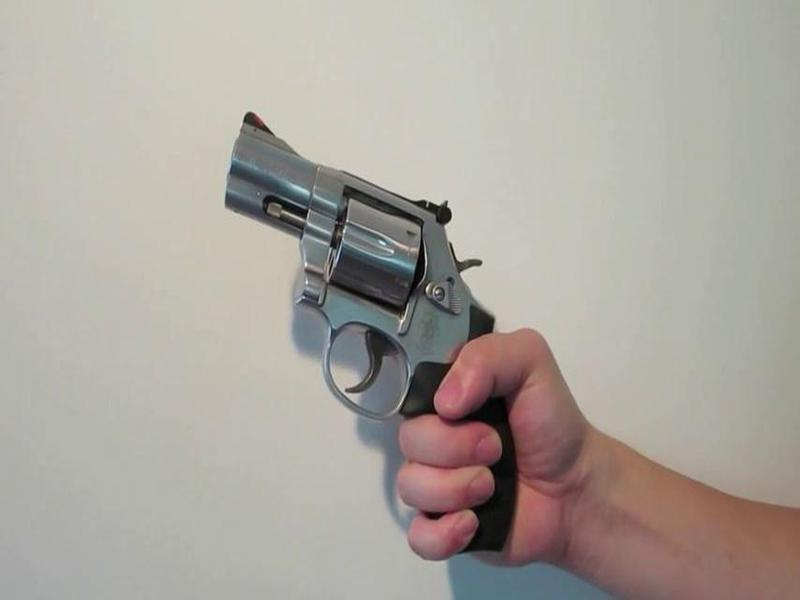Revolver: (208, 67, 531, 501)
